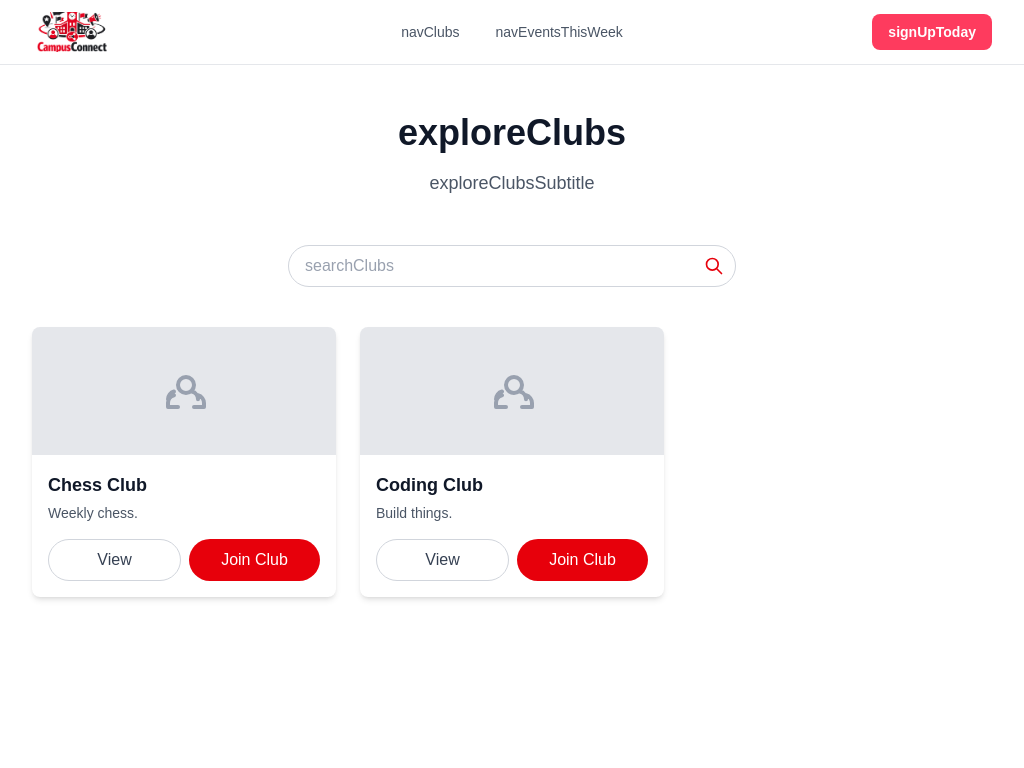
Test: ClubsPage › TC-123 [S-03]: filters the displayed clubs by the search query
Expected: the heading "Chess Club" is shown, [48, 475, 147, 495]
Type "chess" into the field with placeholder "searchClubs" at x=512, y=266, box [288, 245, 736, 287]
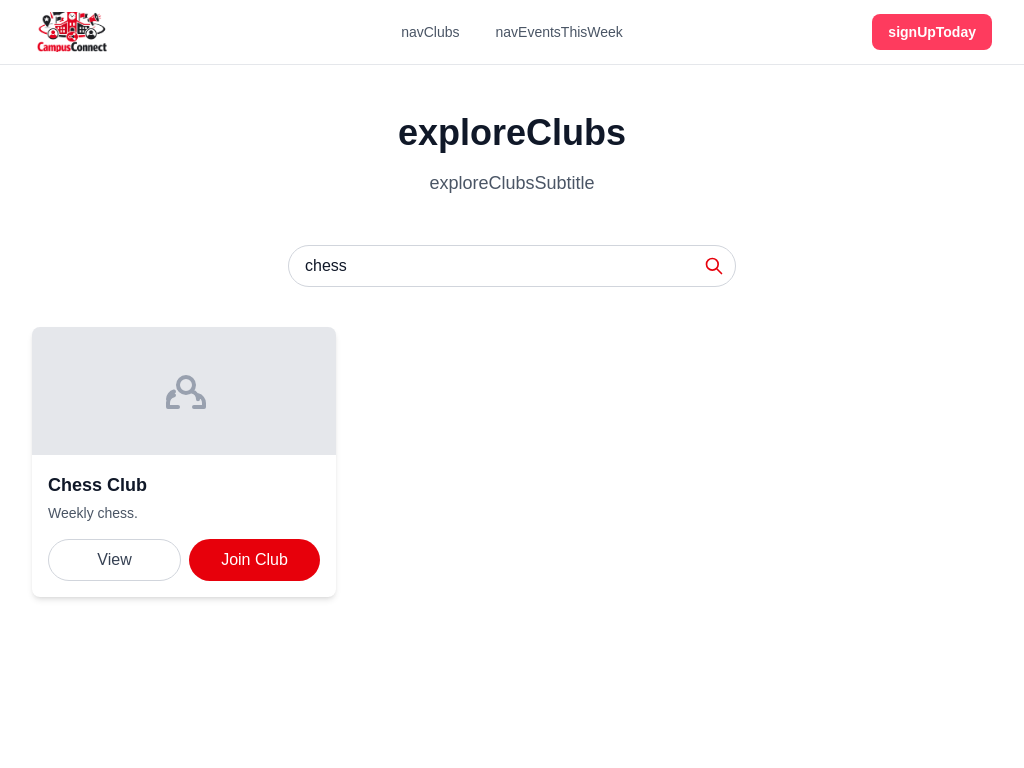
Expected: the heading "Chess Club" is shown, [48, 475, 147, 495]
Result: the heading "Coding Club" is gone
